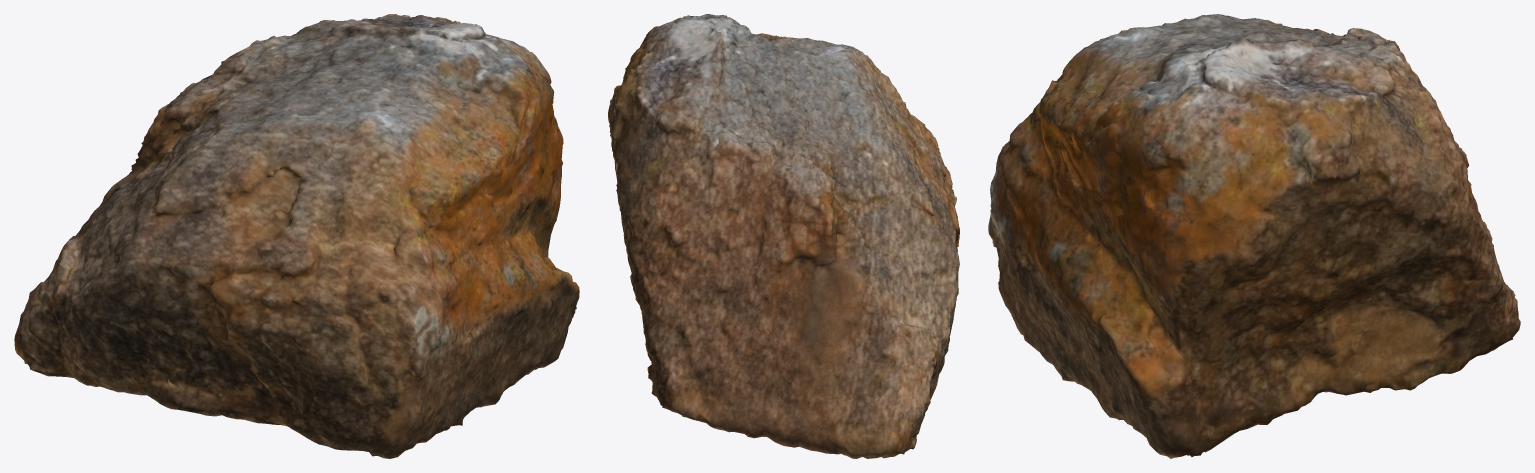
File: namaqualand_boulder_04.glb
3 renders of one model, left to right at view 1: azimuth 30°, elevation 25°; view 2: azimuth 150°, elevation 25°; view 3: azimuth 270°, elevation 25°, orthographic. The views are drawn at different scales.
Size of the model in its own units: 2.52 by 1.9 by 2.5.
Materials: 1 (1 with a texture image).
